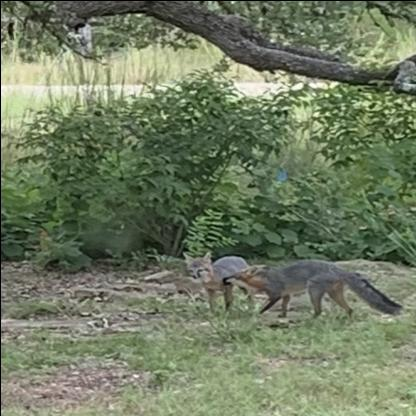zorro: (218, 258, 404, 326), (176, 246, 252, 312)
